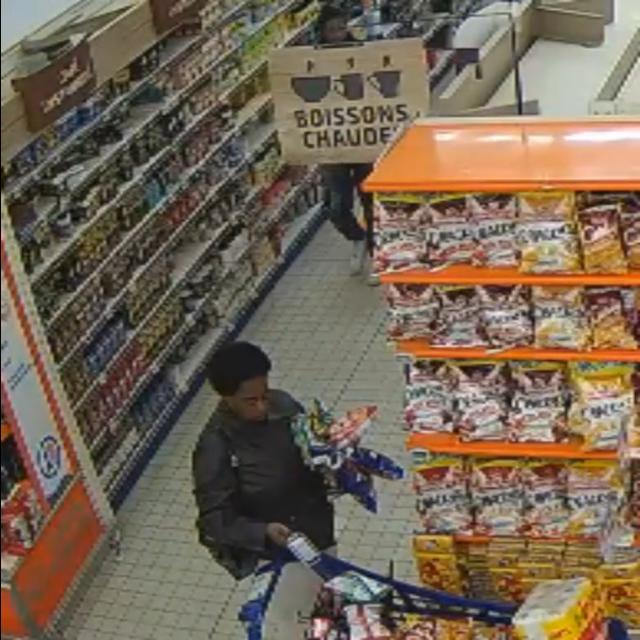article: (327, 452, 378, 514), (320, 406, 379, 449), (290, 414, 332, 470), (342, 447, 407, 481), (306, 399, 332, 437)
bags: (197, 518, 259, 580)
hands: (266, 523, 291, 546)
person: (193, 342, 335, 578), (321, 164, 373, 274)
